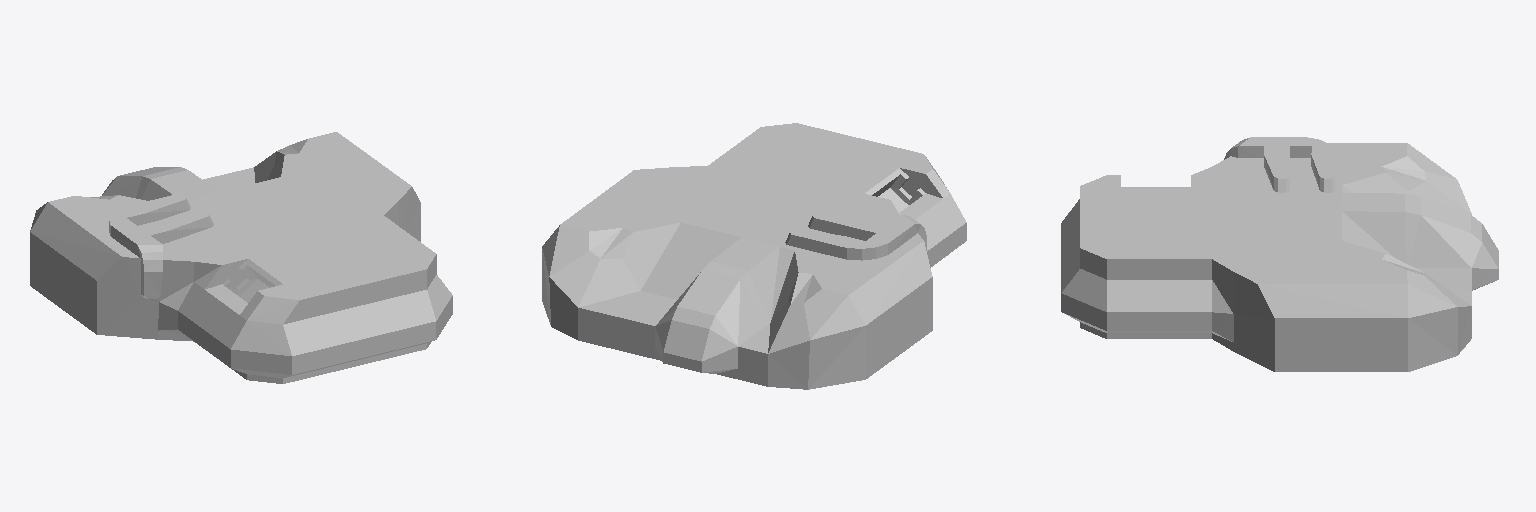
3 views of the same model, side by side, from view 1: azimuth 30°, elevation 25°; view 2: azimuth 150°, elevation 25°; view 3: azimuth 270°, elevation 25° (orthographic).
Visible parts, largest first — view 1: Base; view 2: Base; view 3: Base.
Boxes of the visible parts, box(x1,y1,x2,y2) form: Base: box(30, 132, 452, 383); Base: box(542, 123, 966, 389); Base: box(1061, 137, 1498, 371).
Size of the model in its own units: 29.48 by 9.43 by 34.47.